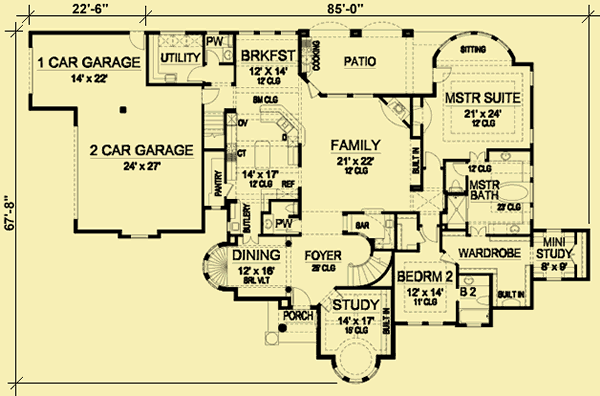door: (289, 284, 310, 310), (127, 27, 148, 51), (429, 65, 454, 85), (423, 148, 444, 171), (420, 222, 441, 243), (202, 84, 221, 106), (184, 64, 203, 82), (204, 47, 221, 63), (453, 159, 468, 176), (469, 149, 486, 162)
large sink: (448, 178, 467, 194)
small sink: (488, 147, 527, 162), (491, 222, 530, 236), (459, 272, 490, 286), (264, 213, 276, 233), (281, 200, 297, 211), (223, 46, 233, 62)
stairs: (345, 252, 391, 287), (202, 243, 232, 289), (202, 109, 227, 147)
tub: (496, 181, 532, 205)
windows: (325, 90, 375, 103), (404, 317, 444, 330), (235, 29, 299, 37), (128, 232, 151, 243), (460, 319, 483, 330), (526, 123, 537, 146), (527, 66, 537, 87)
